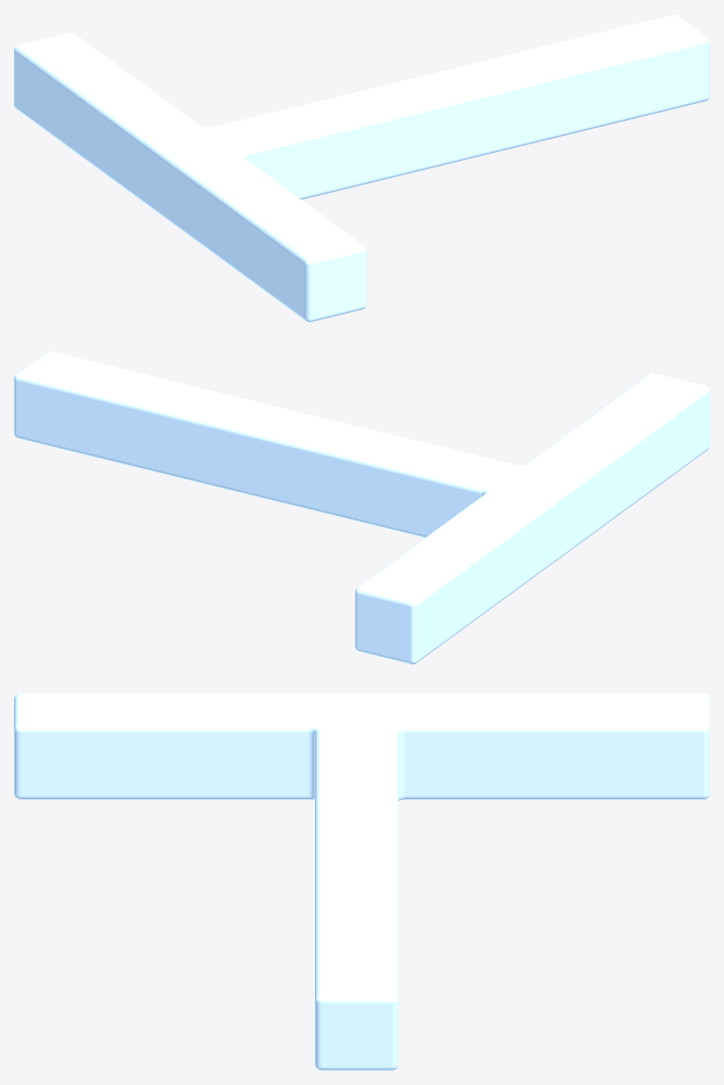
3 renders of one model, top to bottom at view 1: azimuth 30°, elevation 25°; view 2: azimuth 150°, elevation 25°; view 3: azimuth 270°, elevation 25°, orthographic. The views are drawn at different scales.
Visible parts, largest first — view 1: Cube.009; view 2: Cube.009; view 3: Cube.009.
Part boxes in pixels (<box>): Cube.009: <box>14,14,709,322</box>; Cube.009: <box>14,351,709,664</box>; Cube.009: <box>14,693,709,1070</box>.
Bounding box in the file's own units: 2.17 × 0.2503 × 2.09.
